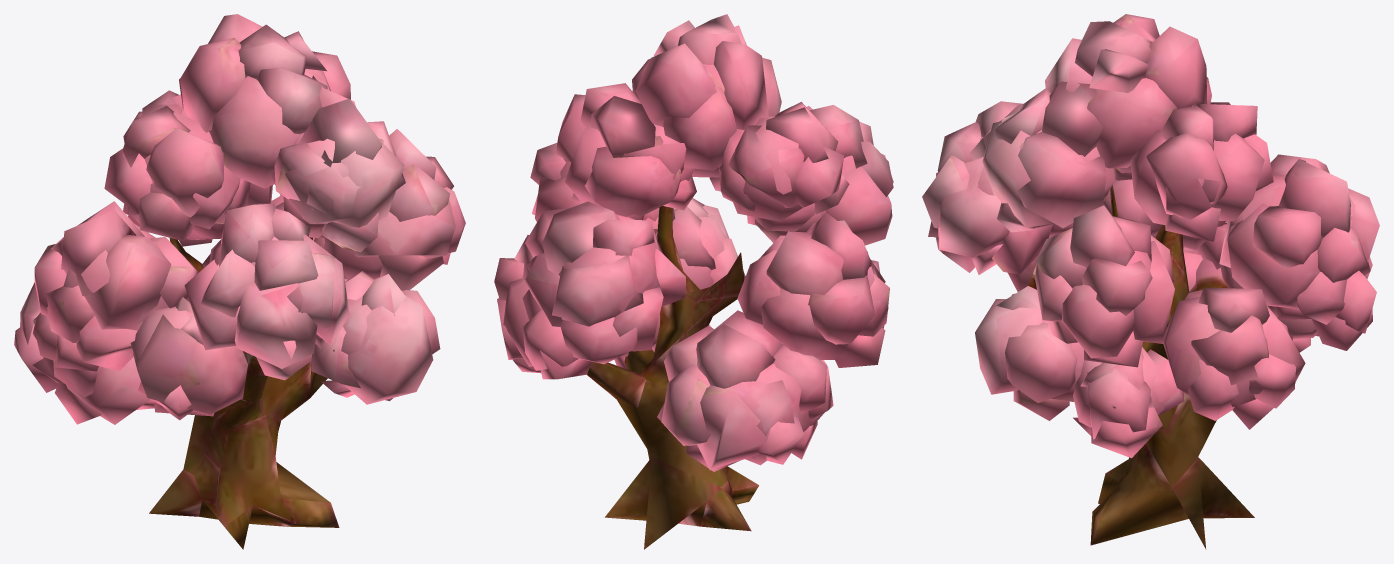
File: tree_blossom.glb
3 renders of one model, left to right at view 1: azimuth 30°, elevation 25°; view 2: azimuth 150°, elevation 25°; view 3: azimuth 270°, elevation 25°, orthographic. The views are drawn at different scales.
Size of the model in its own units: 0.7925 by 0.9877 by 0.8269.
Materials: 1 (1 with a texture image).
